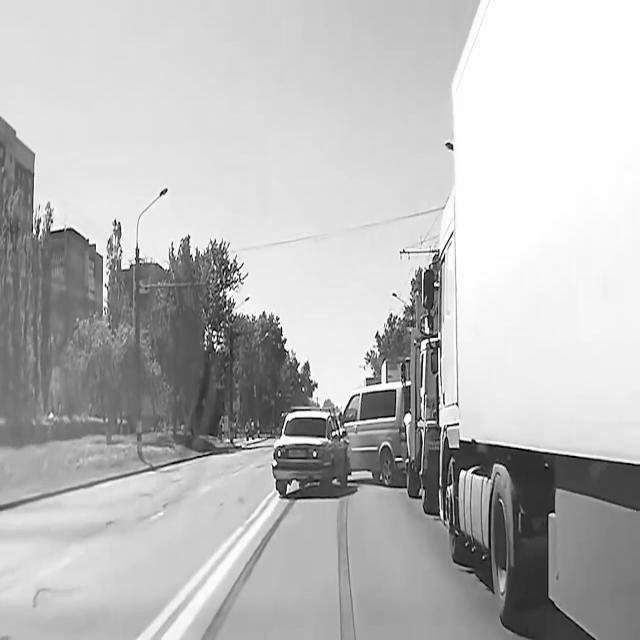accident: (270, 371, 406, 504)
